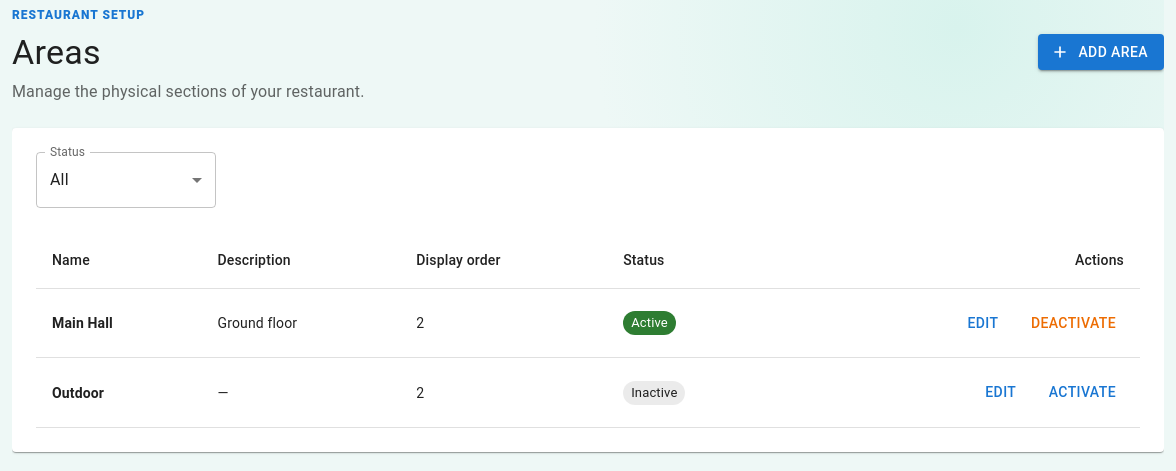
Scenario: Area management › renders the area list and changes status filters
expect the column heading "Main Hall" is shown: met, box [36,288,202,358]
expect the text "Ground floor" is shown: met, box [202,288,400,358]
Click the dropdown named "Status" at (59, 180), box [50,170,69,189]
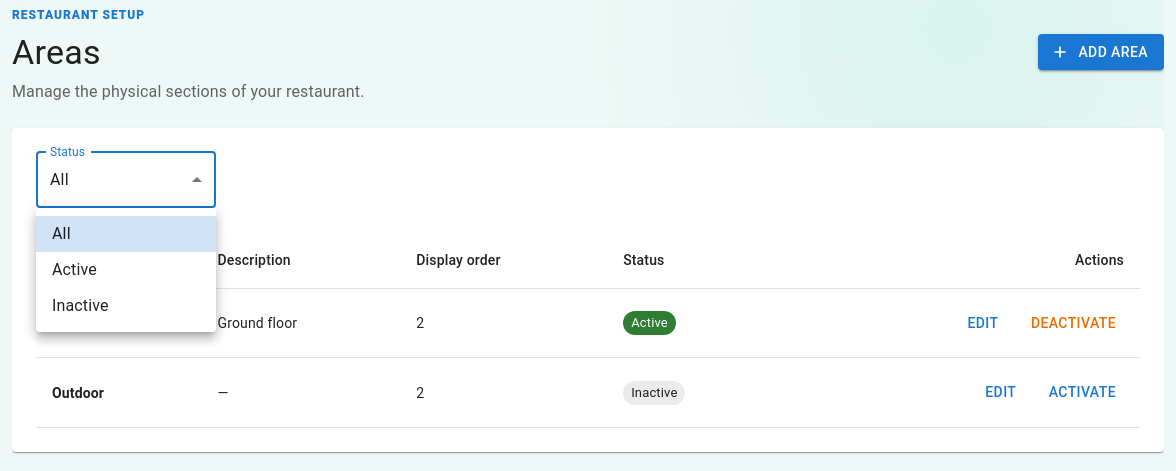
Click the option "Active" at (74, 270), box [52,260,97,279]
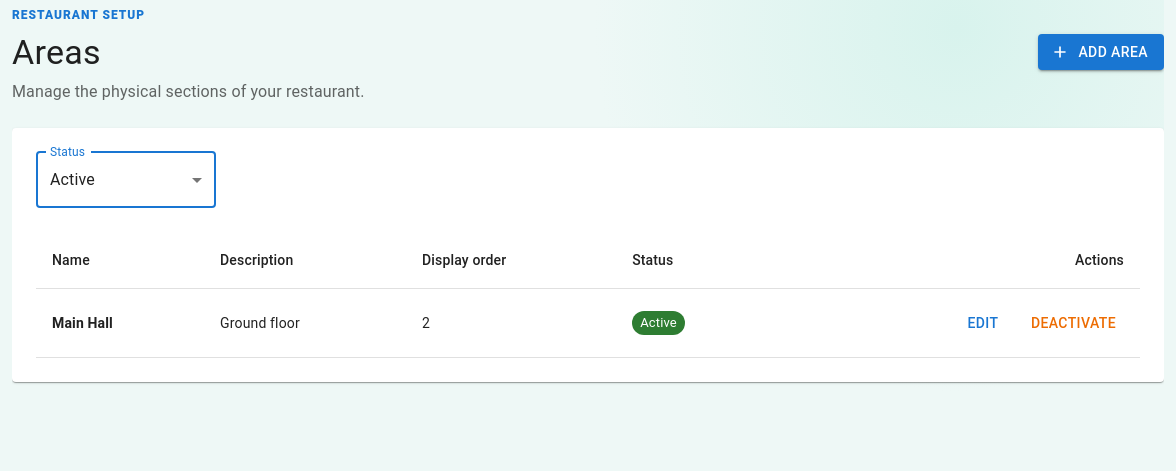
expect the column heading "Outdoor" is gone: met
Click the dropdown named "Status" at (72, 180), box [50,170,95,189]
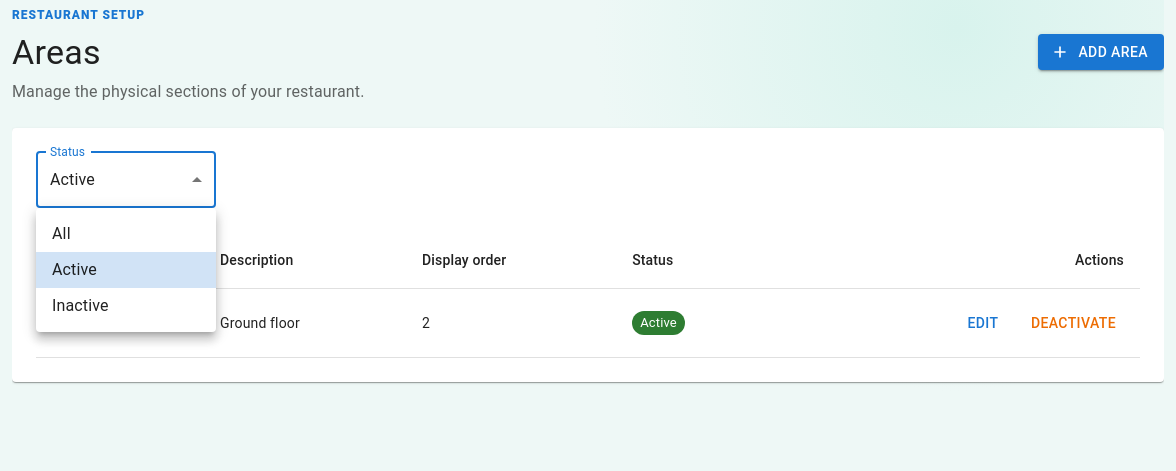
Click the option "Inactive" at (80, 306), box [52,296,109,315]
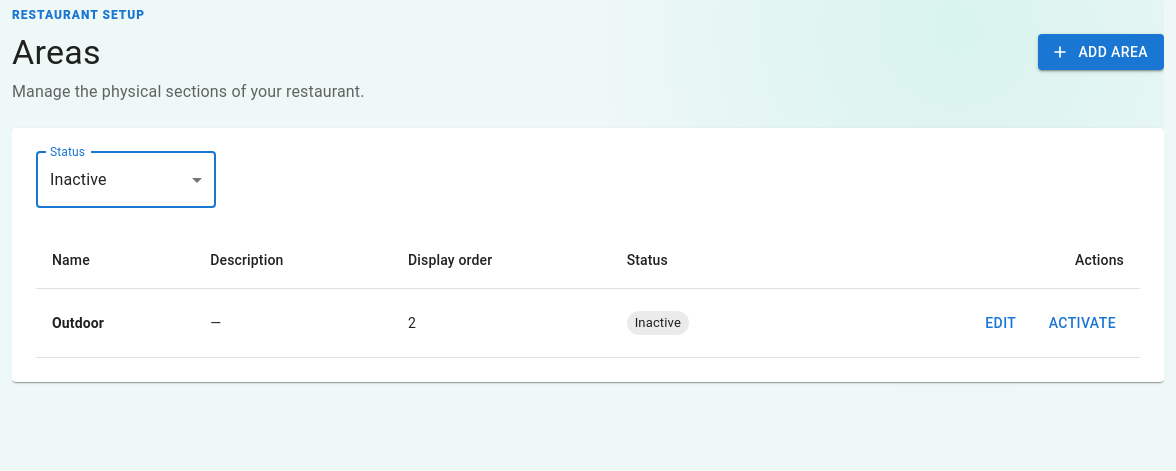
expect the column heading "Outdoor" is shown: met, box [36,288,194,358]
expect the column heading "Main Hall" is gone: met
